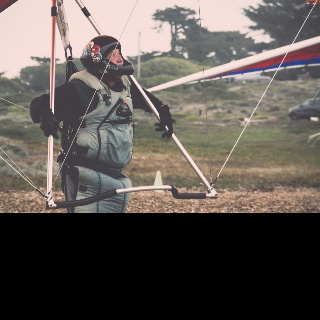without_mask: (104, 49, 123, 78)
